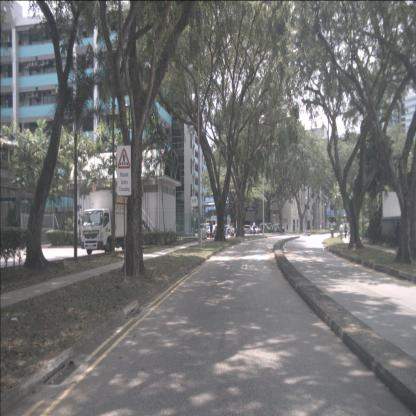human-pedestrian-adult: (394, 220, 402, 253), (340, 222, 344, 241), (252, 220, 256, 235), (210, 220, 213, 239), (229, 225, 233, 237), (344, 223, 347, 239), (232, 225, 235, 237)
vehicle-car: (207, 224, 219, 238), (198, 224, 210, 235), (259, 224, 271, 235), (272, 224, 285, 233), (224, 225, 234, 236), (243, 224, 254, 234), (262, 223, 274, 232), (219, 226, 228, 237), (251, 225, 262, 234)
vehicle-truck: (80, 190, 140, 256)
